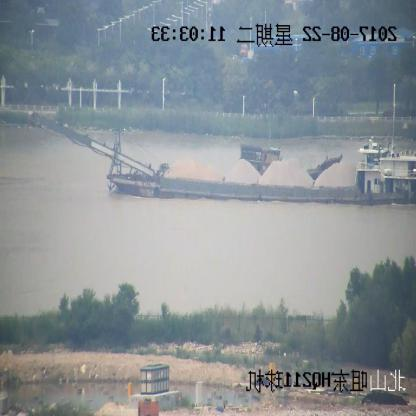Fishing Boat: (240, 146, 341, 174)
